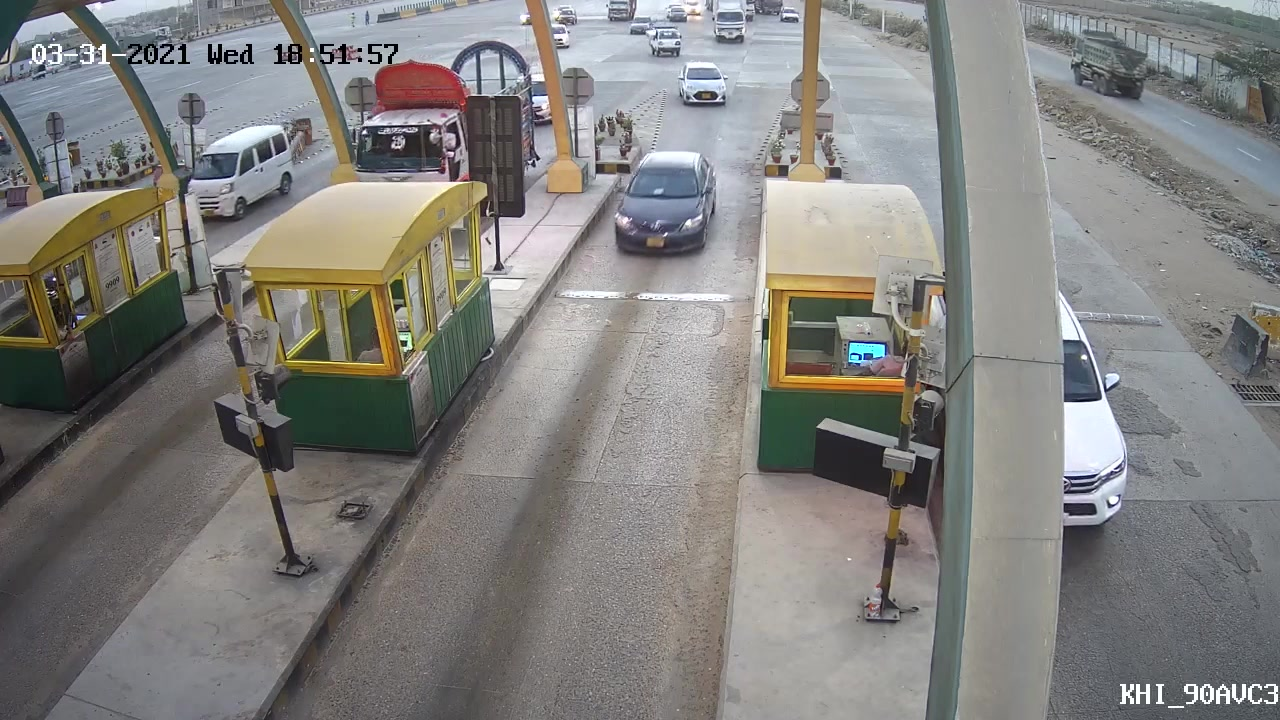F1: (598, 143, 724, 262)
